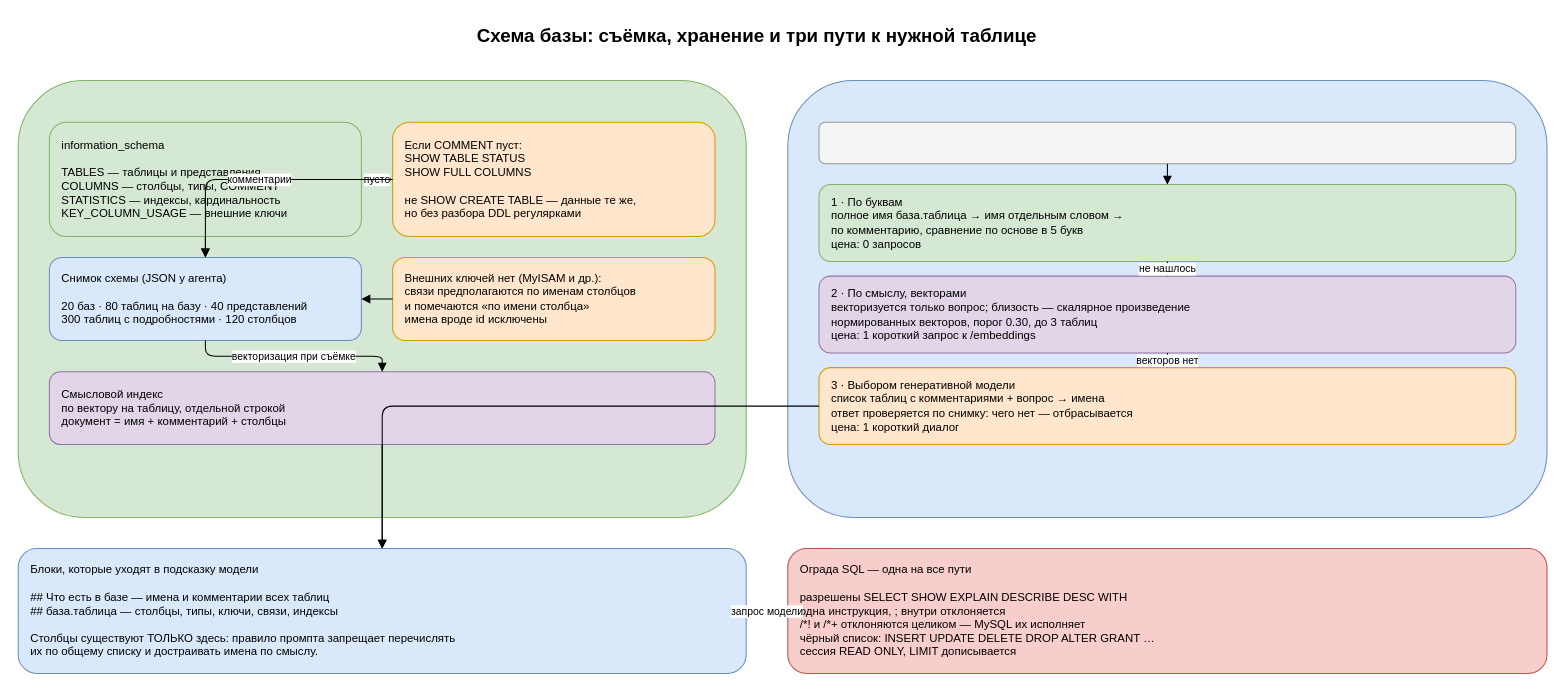
This 1565x692 diagram has some shape labels left out. Here are the shapes that lost their labels. From the top down, the box of each, then its label:
(818, 121, 1516, 164): Вопрос: «покажи учётные записи»
(17, 80, 746, 517): СЪЁМКА — по кнопке, администратором, в фоне
(787, 80, 1547, 517): ПОИСК — на каждый вопрос, от дешёвого к дорогому
